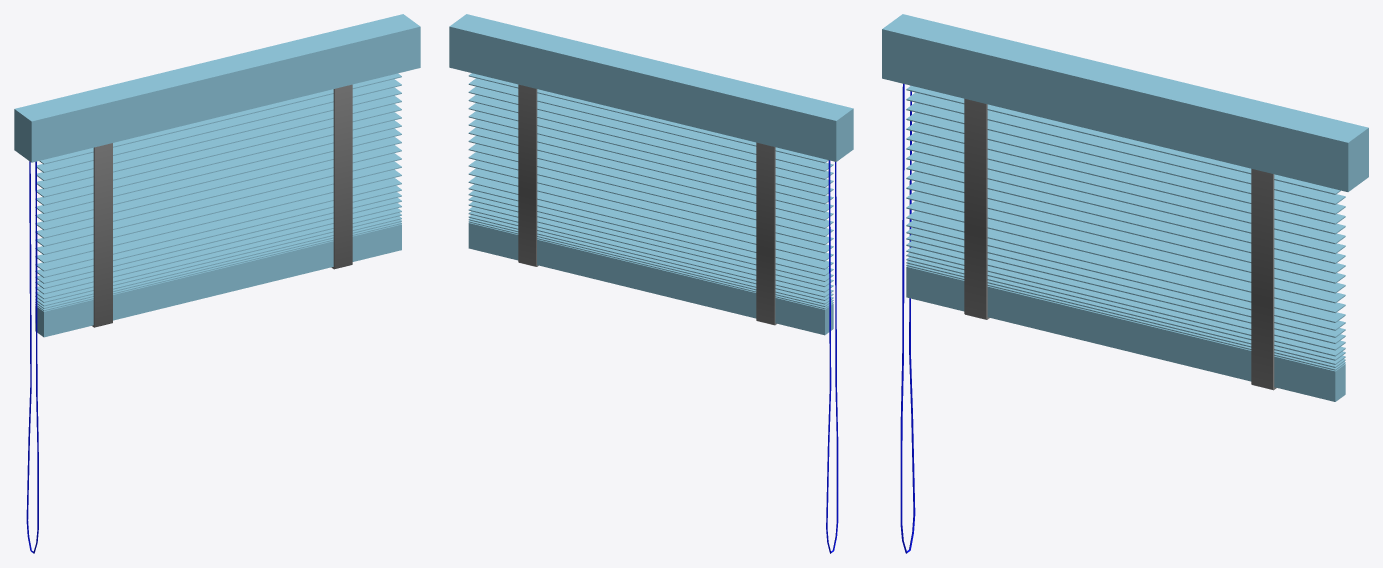
File: PROPS_sunblind_02b.FBX
The picture shows the model from 3 angles, left to right: view 1: azimuth 30°, elevation 25°; view 2: azimuth 150°, elevation 25°; view 3: azimuth 330°, elevation 25°; orthographic projection. The views are drawn at different scales.
Parts seen in each view (by area): view 1: PROPS_sunblind_02b; view 2: PROPS_sunblind_02b; view 3: PROPS_sunblind_02b.
Boxes of the visible parts, bbox=[...] form: PROPS_sunblind_02b: bbox=[14, 14, 420, 553]; PROPS_sunblind_02b: bbox=[449, 14, 853, 553]; PROPS_sunblind_02b: bbox=[882, 14, 1368, 553].
Size of the model in its own units: 164 by 178 by 12.61.
